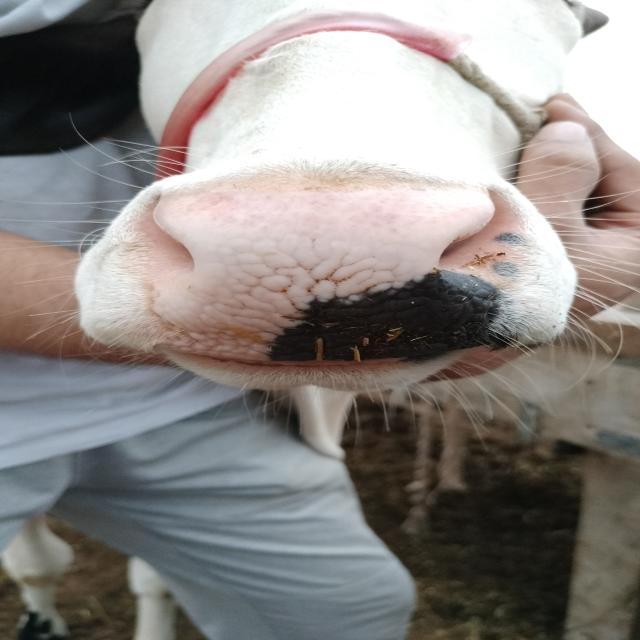muzzles: (123, 164, 556, 376)
